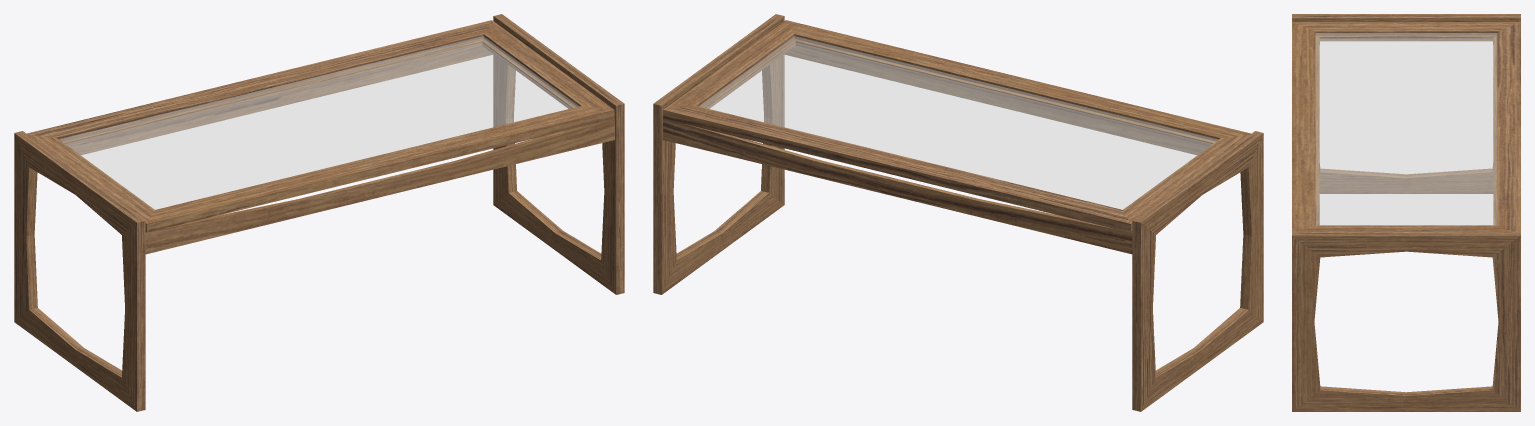
Rendered from coffee_table_glass_wood.glb.
3 renders of one model, left to right at view 1: azimuth 30°, elevation 25°; view 2: azimuth 150°, elevation 25°; view 3: azimuth 270°, elevation 25°, orthographic. The views are drawn at different scales.
Parts seen in each view (by area): view 1: Glass_4, TableTop_0, TableTopSides_1, LegLeft_3, LegRight_2; view 2: Glass_4, TableTop_0, TableTopSides_1, LegLeft_3, LegRight_2; view 3: Glass_4, LegRight_2, TableTop_0, LegLeft_3.
Part boxes in pixels (box(x1,y1,x2,y2)): Glass_4: box(59, 36, 578, 209); TableTop_0: box(27, 20, 614, 232); TableTopSides_1: box(69, 46, 614, 254); LegLeft_3: box(14, 131, 145, 411); LegRight_2: box(493, 14, 624, 294); Glass_4: box(699, 36, 1218, 209); TableTop_0: box(663, 20, 1250, 232); TableTopSides_1: box(663, 46, 1208, 254); LegLeft_3: box(1132, 131, 1263, 411); LegRight_2: box(653, 14, 784, 294); Glass_4: box(1315, 33, 1497, 225); LegRight_2: box(1292, 232, 1520, 411); TableTop_0: box(1292, 22, 1520, 231); LegLeft_3: box(1292, 14, 1520, 193).
Size of the model in its own units: 1.15 by 0.425 by 0.5.
3 materials, 2 textured.
